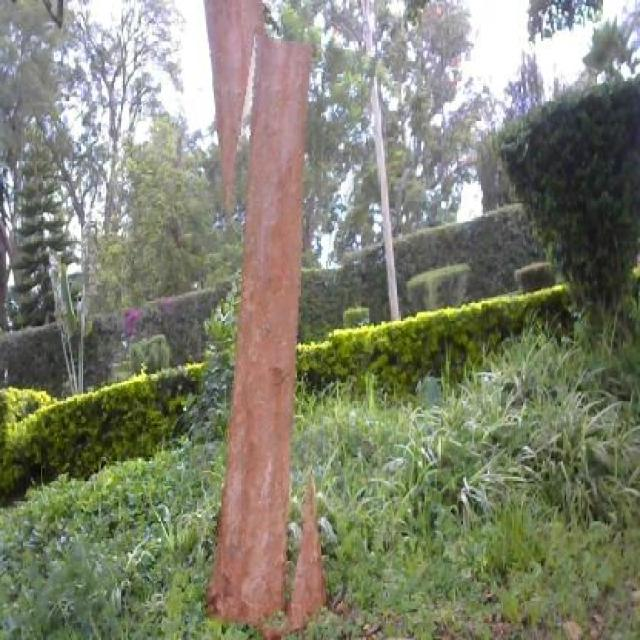tree trunk: (186, 38, 354, 630)
